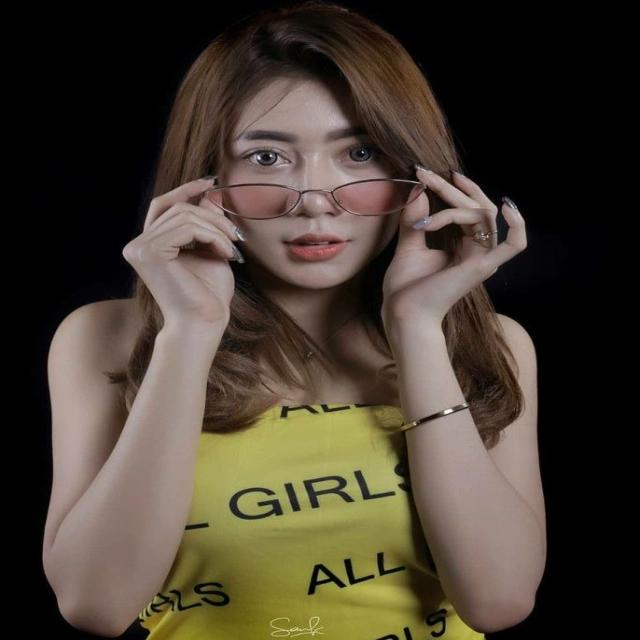Glasses: (196, 172, 446, 223)
